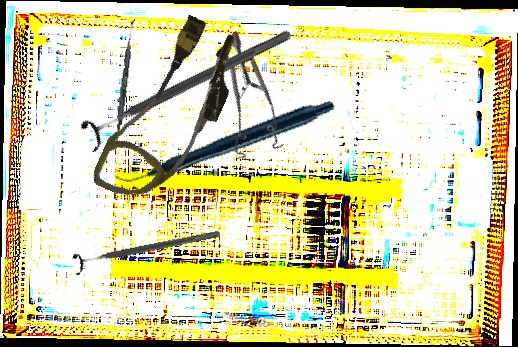Cannula: (89, 5, 252, 219)
Fixation Ring: (76, 17, 299, 155), (71, 222, 223, 277)
Handpiece: (113, 49, 336, 232)
Spatula Surgical: (114, 17, 135, 148)
Speculum: (173, 30, 313, 174)
